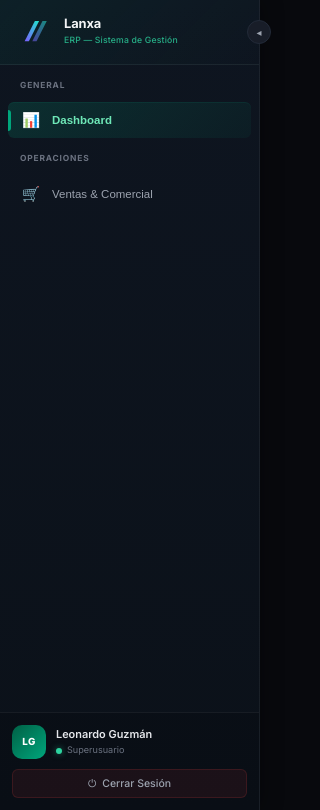
it: Sidebar — gating por rol › el toggle colapsa el menú (oculta labels, conserva navegación)
Expected: the text "Ventas & Comercial" is shown, 52,188 -> 153,200
Click the button titled "Colapsar menú" at x=259, y=32, box 247,20 -> 271,44
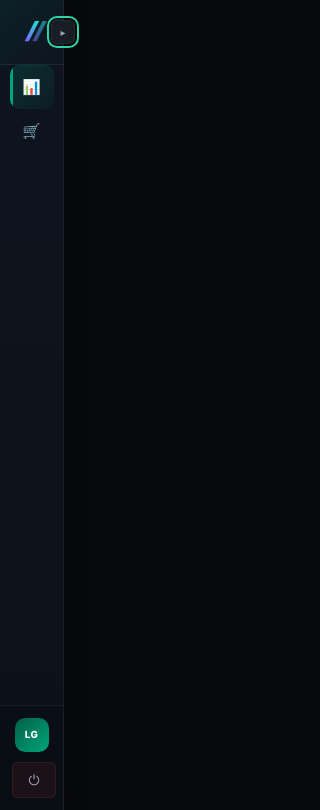
Expected: the button titled "Ventas & Comercial" is shown, 10,109 -> 54,153
Now the text "Ventas & Comercial" is gone
